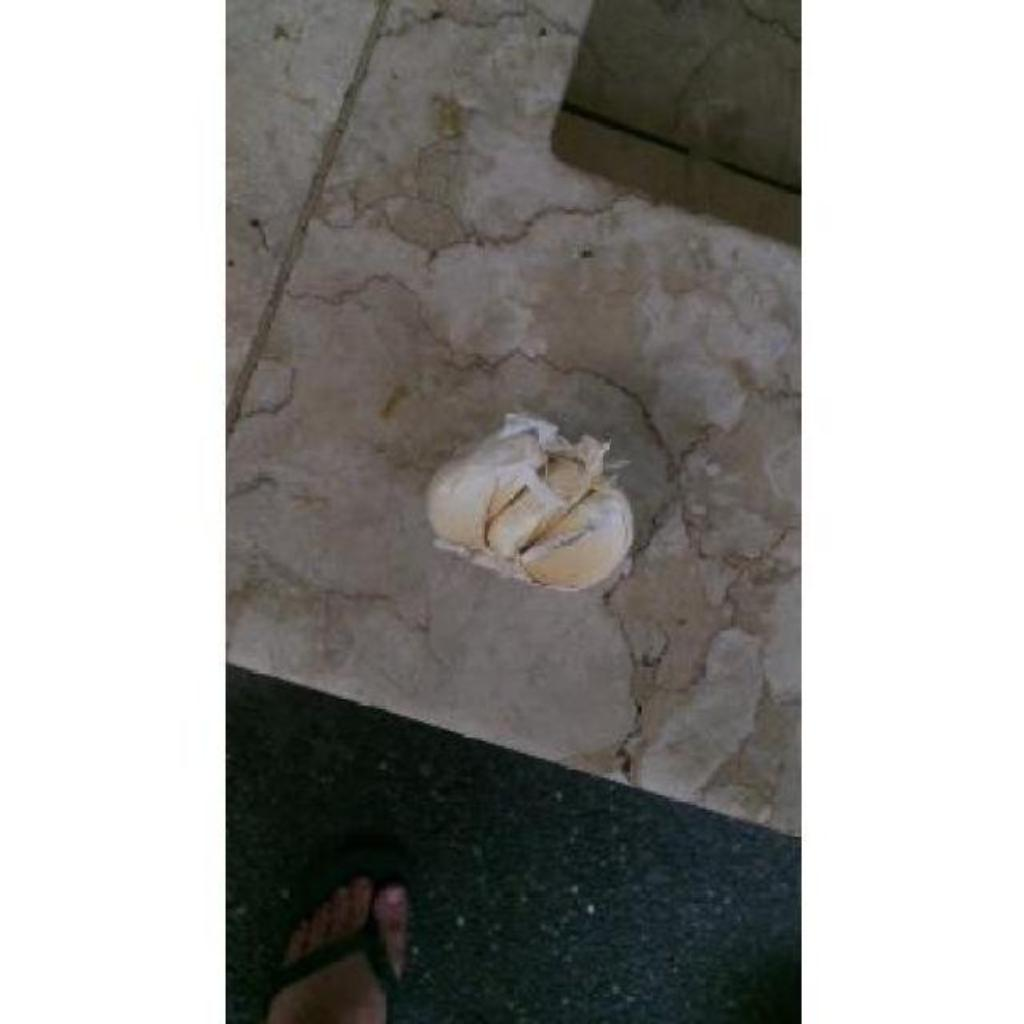garlic: (428, 416, 634, 590)
